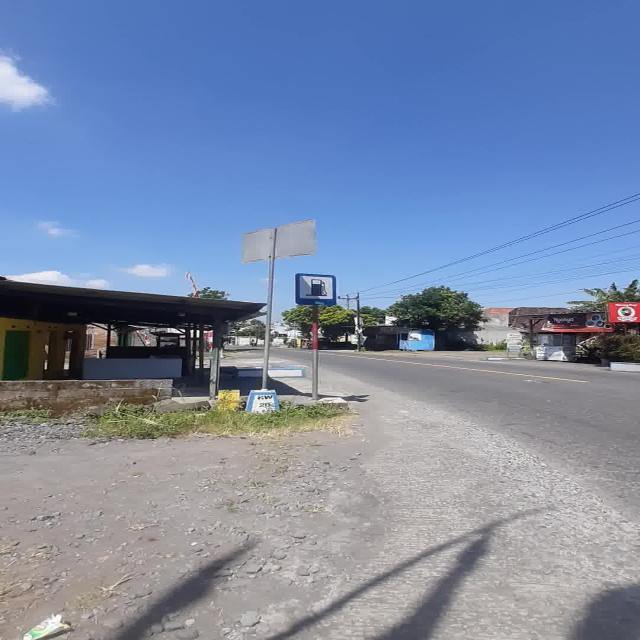Pom Bensin: (296, 273, 336, 306)
